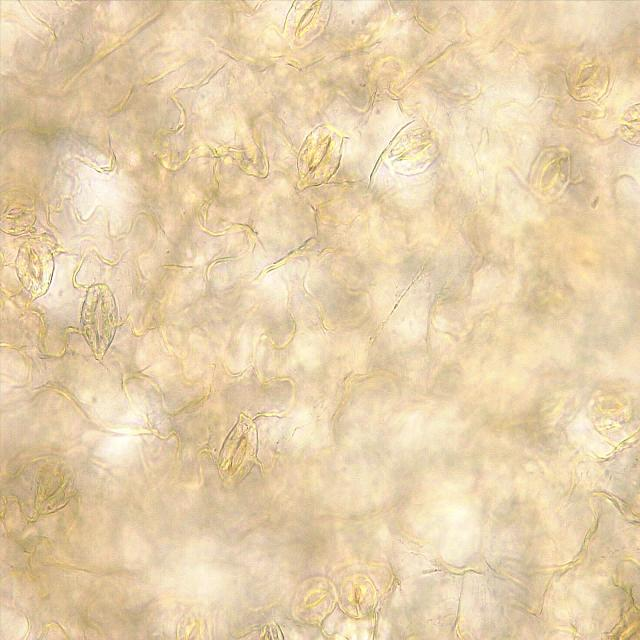Stomata: (78, 282, 120, 363), (296, 123, 345, 192), (215, 413, 260, 488), (381, 126, 444, 176), (526, 144, 573, 206), (282, 0, 334, 50), (565, 48, 611, 104), (14, 238, 56, 296), (34, 459, 76, 517), (292, 576, 338, 624), (586, 383, 633, 428), (0, 184, 37, 237), (338, 571, 378, 619)
